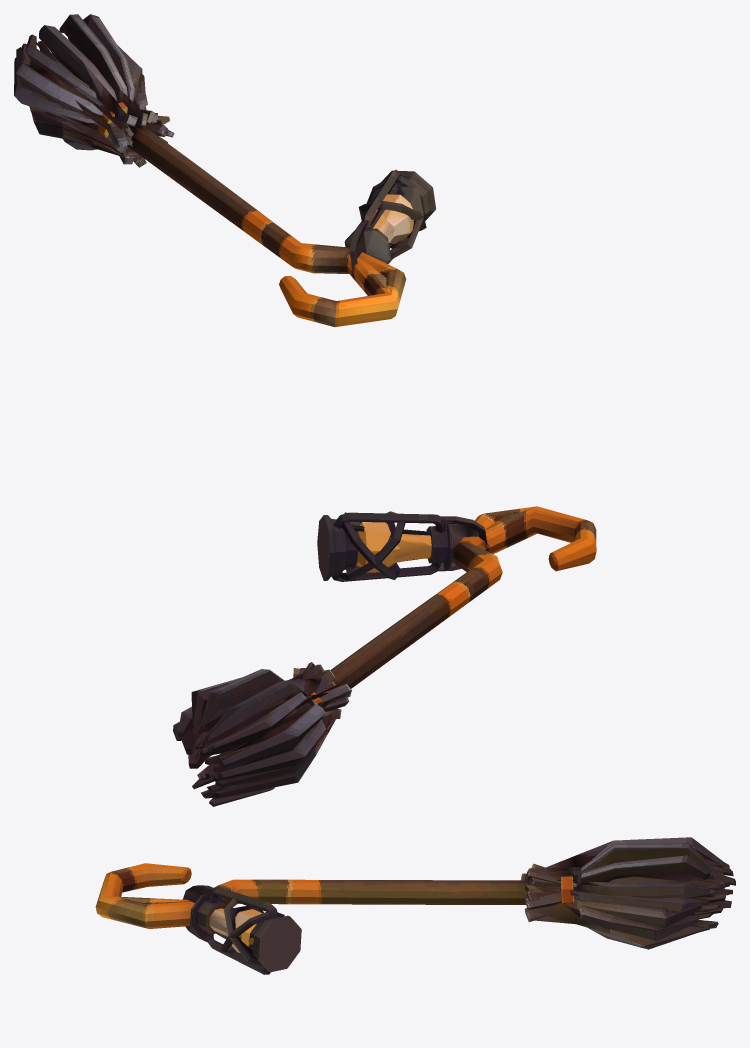
File: item_broom_halloween.glb
3 renders of one model, top to bottom at view 1: azimuth 30°, elevation 25°; view 2: azimuth 150°, elevation 25°; view 3: azimuth 270°, elevation 25°, orthographic. The views are drawn at different scales.
Parts seen in each view (by area): view 1: Broom_Halloween; view 2: Broom_Halloween; view 3: Broom_Halloween.
Part boxes in pixels (left/top/right/bottom): Broom_Halloween: left=14, top=14, right=435, bottom=326; Broom_Halloween: left=173, top=506, right=596, bottom=806; Broom_Halloween: left=95, top=837, right=735, bottom=974.
Size of the model in its own units: 0.9266 by 0.2269 by 1.42.
Materials: 2 (2 with a texture image).
